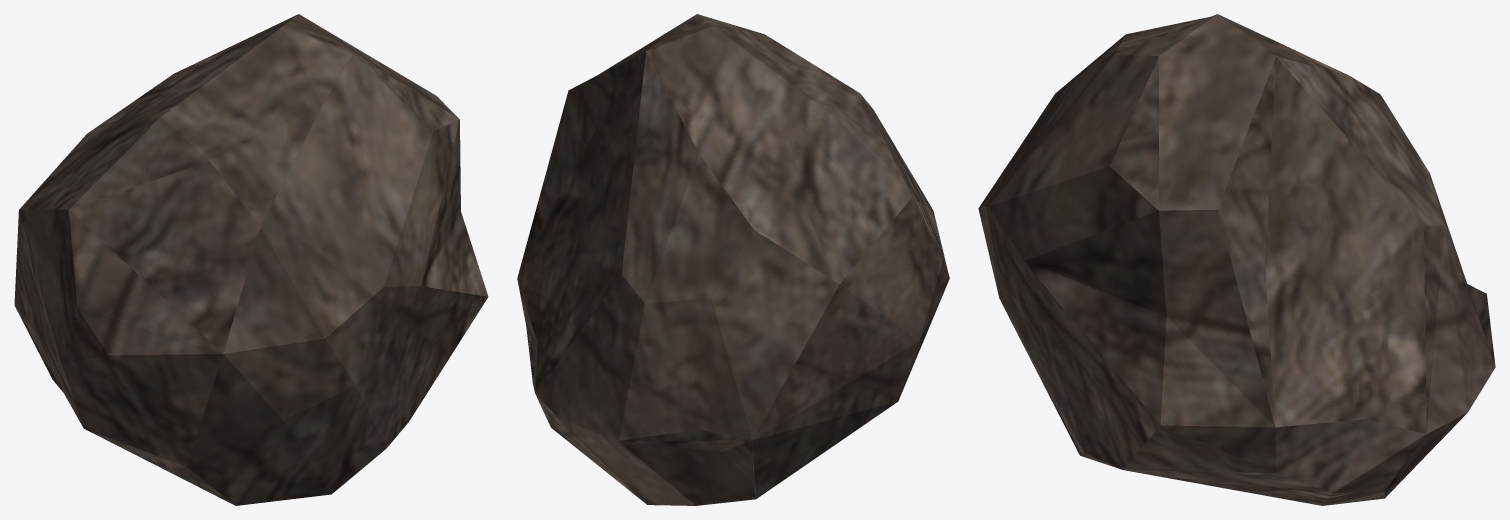
File: LampLight_Rock_1.FBX
3 views of the same model, side by side, from view 1: azimuth 30°, elevation 25°; view 2: azimuth 150°, elevation 25°; view 3: azimuth 270°, elevation 25° (orthographic). The views are drawn at different scales.
Visible parts, largest first — view 1: Bg_Rock_1; view 2: Bg_Rock_1; view 3: Bg_Rock_1.
Part boxes in pixels (x1,y1,x2,y2): Bg_Rock_1: (14, 14, 488, 505); Bg_Rock_1: (517, 14, 949, 505); Bg_Rock_1: (978, 14, 1495, 505).
Size of the model in its own units: 86.58 by 92.02 by 88.27.
